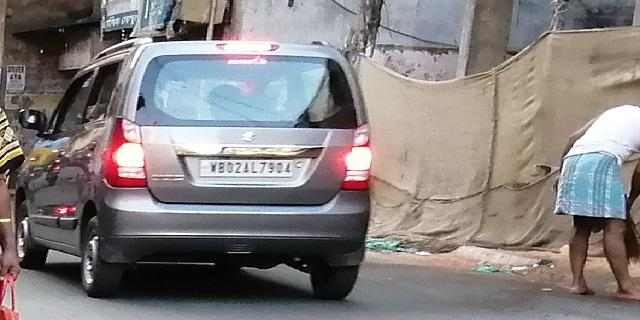Car: (20, 34, 376, 309)
